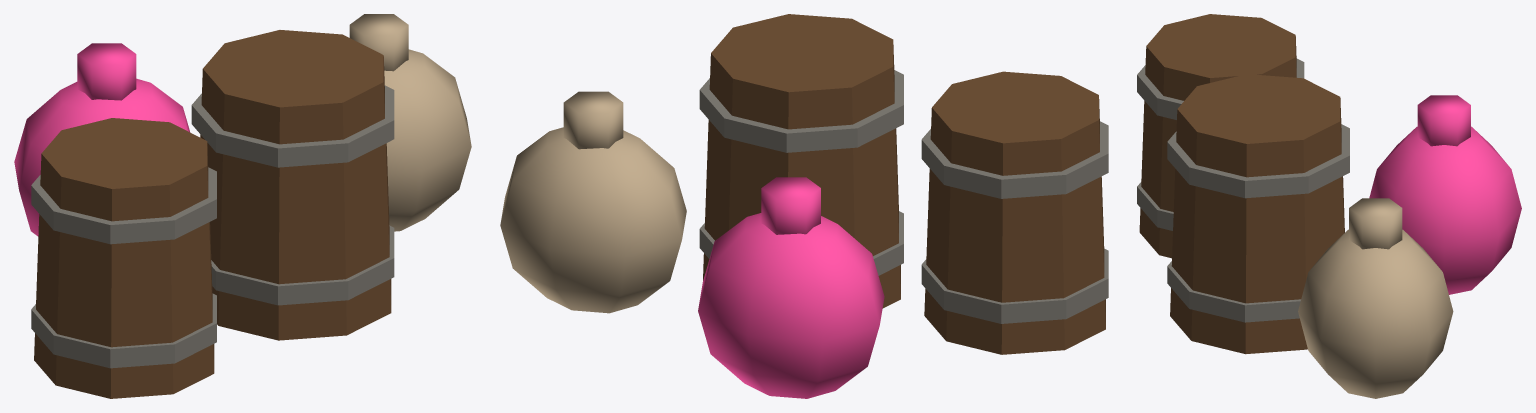
Rendered from props_barrels.fbx.
3 renders of one model, left to right at view 1: azimuth 30°, elevation 25°; view 2: azimuth 150°, elevation 25°; view 3: azimuth 270°, elevation 25°, orthographic. The views are drawn at different scales.
Visible parts, largest first — view 1: Prop; view 2: Prop; view 3: Prop.
Part boxes in pixels (x1,y1,x2,y2): Prop: [14, 14, 471, 398]; Prop: [500, 14, 1108, 398]; Prop: [1137, 14, 1521, 398].
Size of the model in its own units: 0.6916 by 0.5053 by 0.314.
